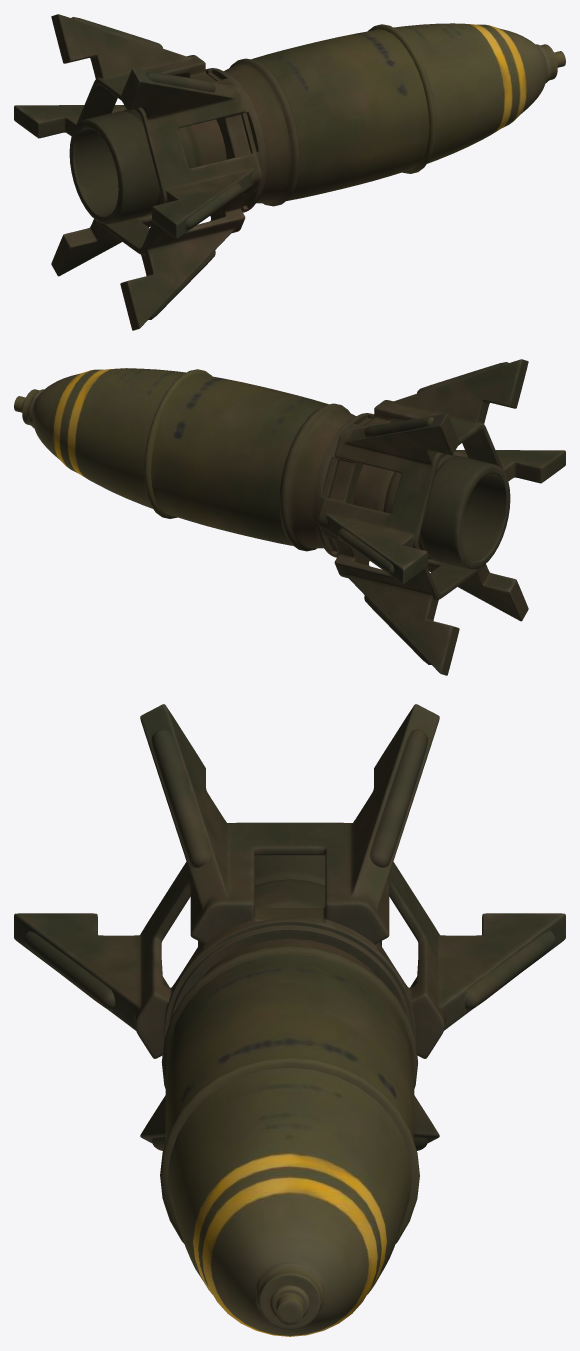
File: hebomb_2.glb
3 views of the same model, one above another, from view 1: azimuth 30°, elevation 25°; view 2: azimuth 150°, elevation 25°; view 3: azimuth 270°, elevation 25° (orthographic). The views are drawn at different scales.
Parts seen in each view (by area): view 1: defaultMaterial; view 2: defaultMaterial; view 3: defaultMaterial.
Part boxes in pixels (box(x1,y1,x2,y2)): defaultMaterial: box(14, 14, 565, 330); defaultMaterial: box(14, 359, 565, 675); defaultMaterial: box(14, 704, 565, 1336).
Bounding box in the file's own units: 1 × 0.5357 × 0.6024.
Materials: 1 (1 with a texture image).
